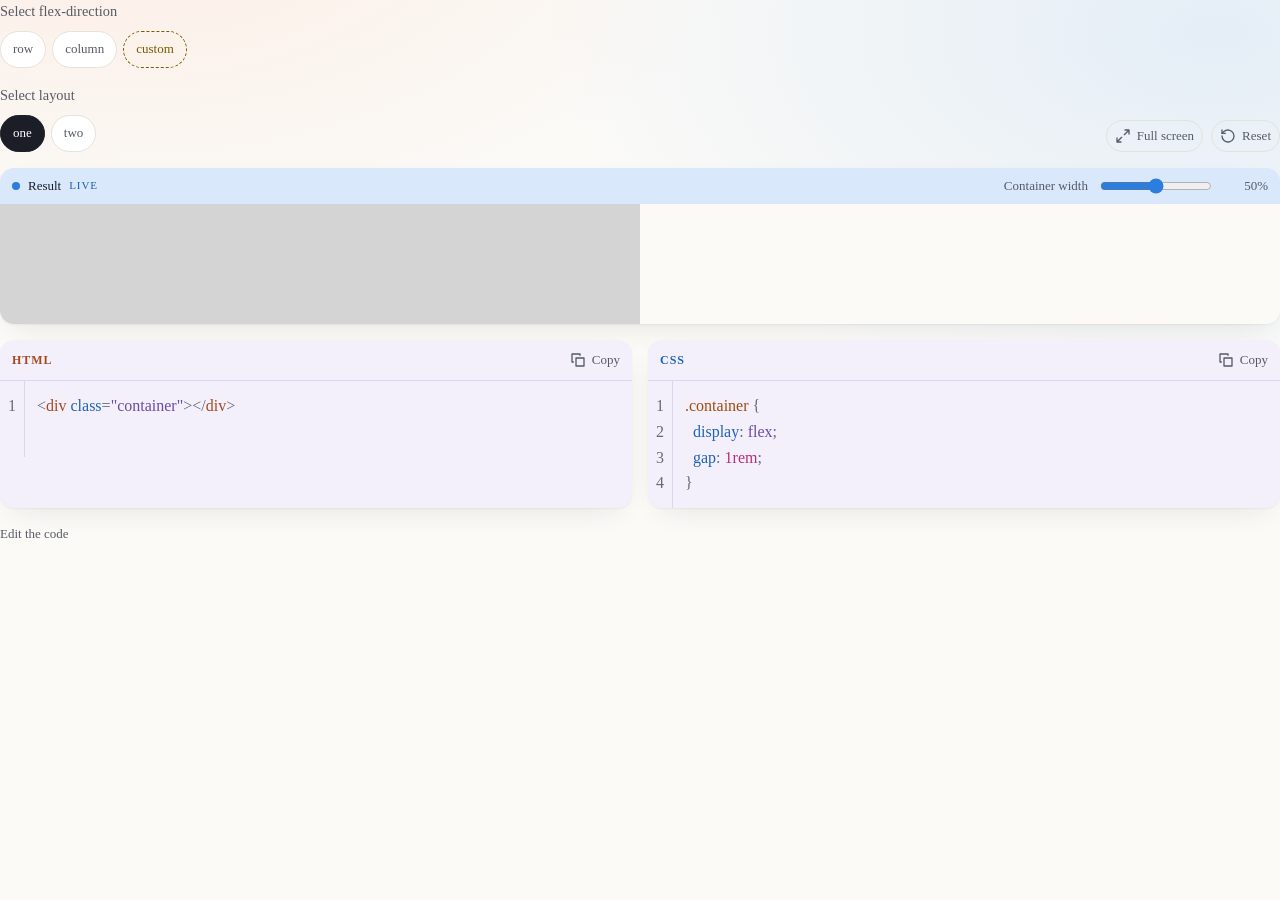
Test: Playground selectors › writes the chosen value into the CSS
The image size is (1280, 900).
Click the radio button labelled "column" at (85,49), box [52,31,117,68]
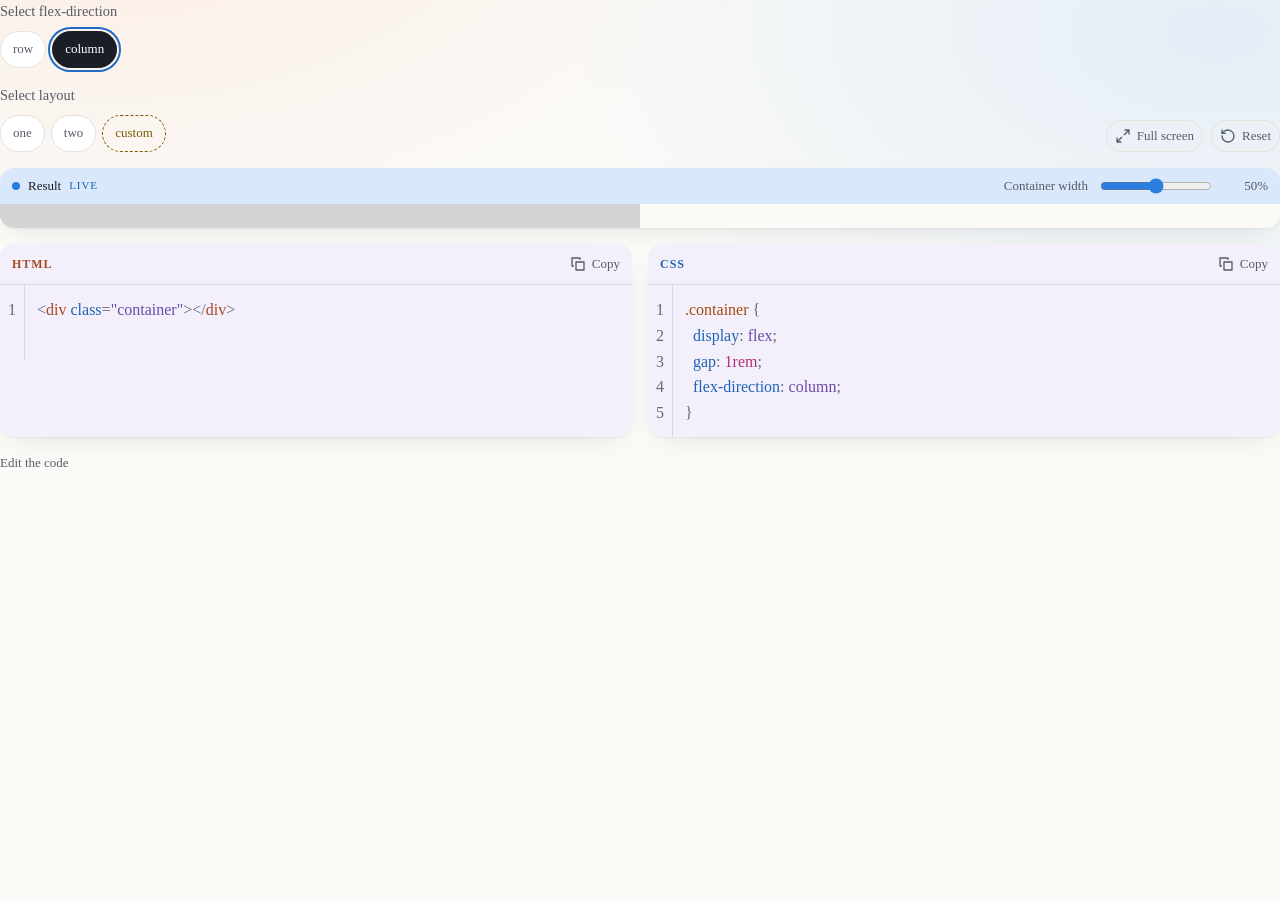
Check: the radio button labelled "column" is checked, box [52,31,117,68]
